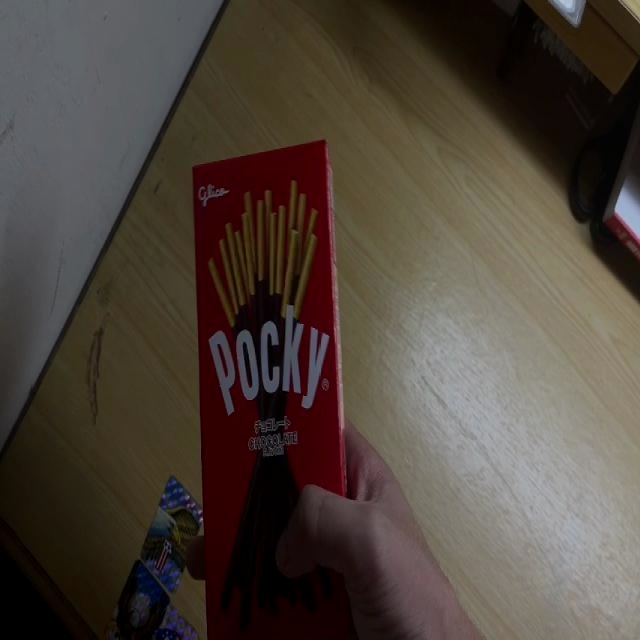Pocky: (191, 142, 357, 640)
